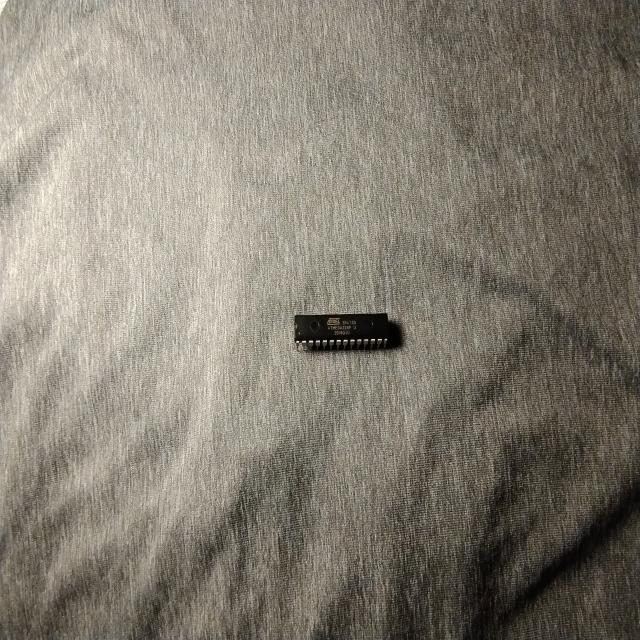atmega: (291, 310, 393, 355)
